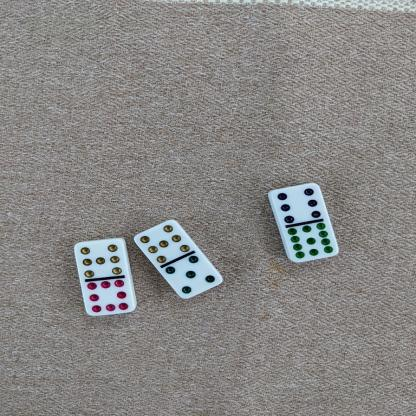pip-11: (285, 221, 340, 262)
pip-5: (164, 254, 223, 298)
pip-6: (269, 183, 322, 223)
pip-7: (132, 220, 190, 264), (72, 238, 126, 279)
pip-8: (81, 279, 135, 315)
